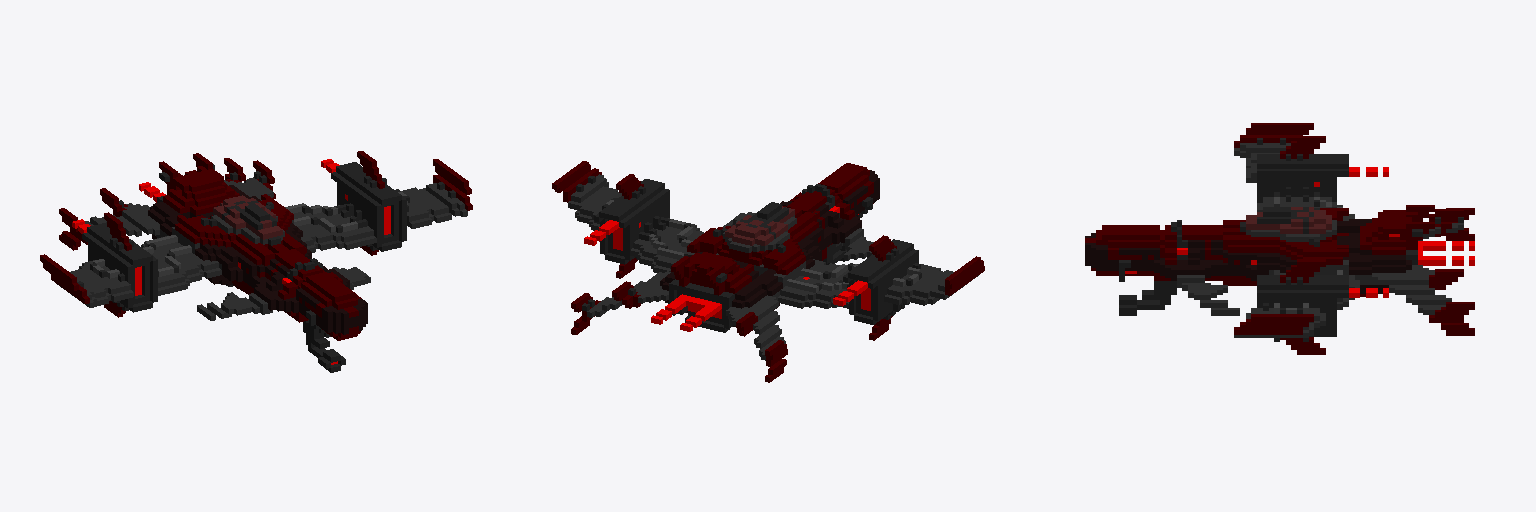
3 renders of one model, left to right at view 1: azimuth 30°, elevation 25°; view 2: azimuth 150°, elevation 25°; view 3: azimuth 270°, elevation 25°, orthographic.
Visible parts, largest first — view 1: object 1; view 2: object 1; view 3: object 1.
Boxes of the visible parts, x1,y1,x2,y2 form: object 1: [40, 151, 472, 372]; object 1: [552, 161, 984, 382]; object 1: [1085, 123, 1474, 354].
Size of the model in its own units: 8 by 2.2 by 6.8.
Materials: 1 (1 with a texture image).